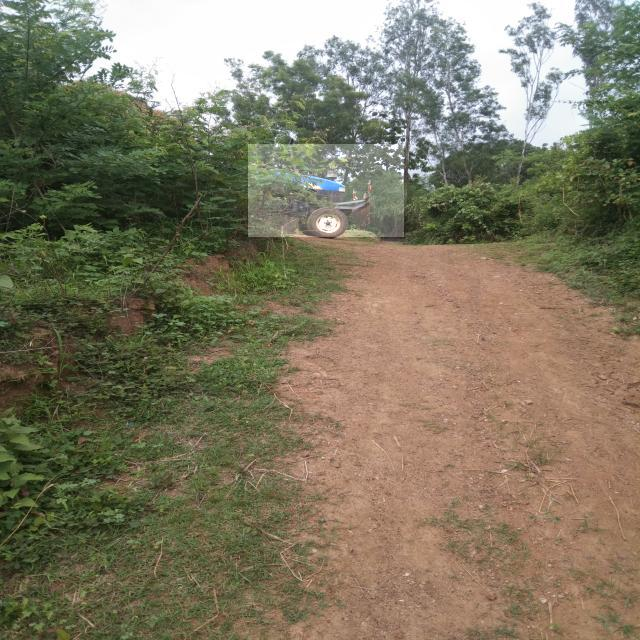Tractot: (248, 144, 404, 237)
